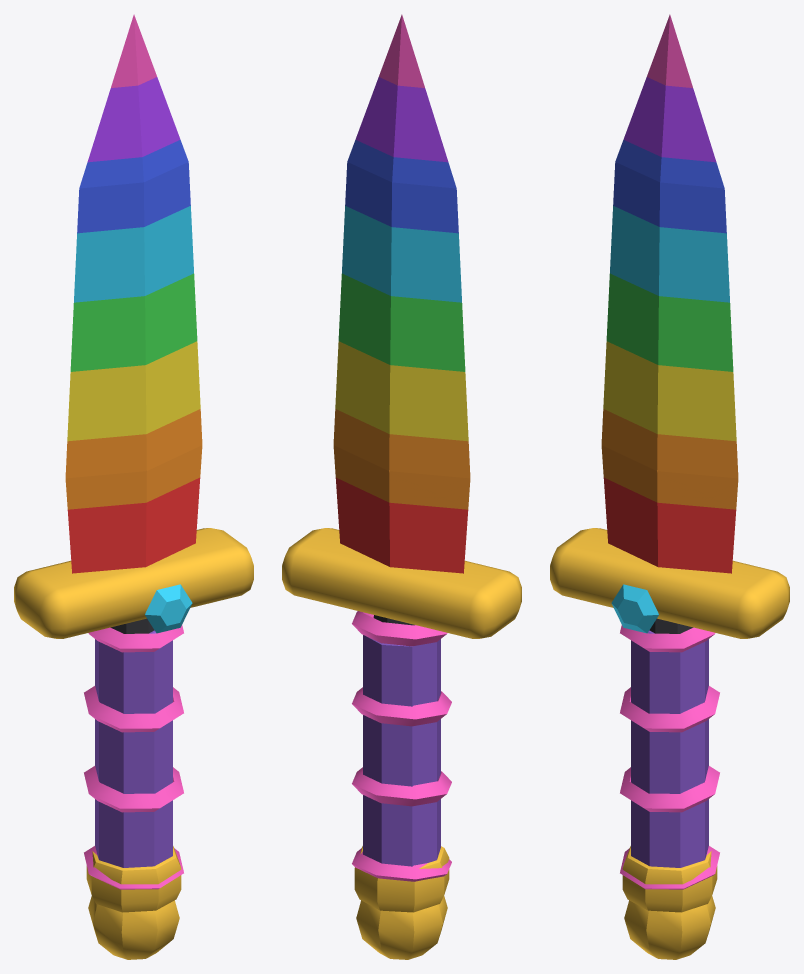
Rendered from RainbowDagger.fbx.
The picture shows the model from 3 angles, left to right: view 1: azimuth 30°, elevation 25°; view 2: azimuth 150°, elevation 25°; view 3: azimuth 330°, elevation 25°; orthographic projection.
Parts seen in each view (by area): view 1: RainbowDagger; view 2: RainbowDagger; view 3: RainbowDagger.
Boxes of the visible parts, x1,y1,x2,y2 form: RainbowDagger: (14,14,253,959); RainbowDagger: (282,14,521,959); RainbowDagger: (550,14,789,959).
Bounding box in the file's own units: 0.62 × 2.63 × 0.3307.
Materials: 1 (1 with a texture image).
